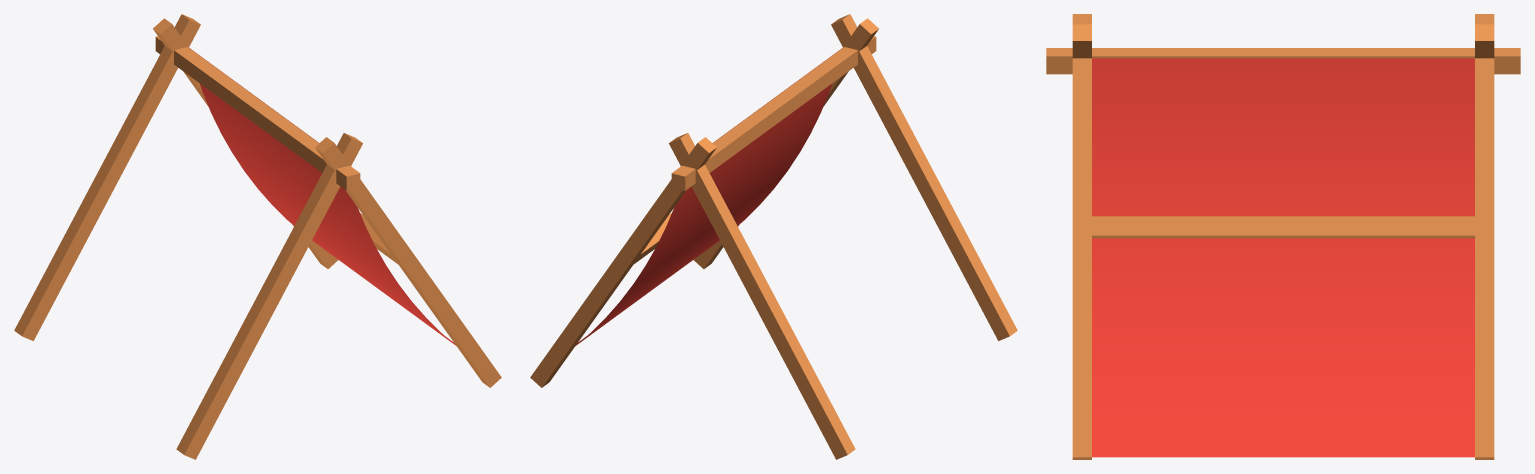
The model's file is tent-half.glb.
3 renders of one model, left to right at view 1: azimuth 30°, elevation 25°; view 2: azimuth 150°, elevation 25°; view 3: azimuth 270°, elevation 25°, orthographic. The views are drawn at different scales.
Visible parts, largest first — view 1: tentHalf; view 2: tentHalf; view 3: tentHalf.
Boxes of the visible parts, x1,y1,x2,y2 form: tentHalf: [14, 14, 501, 459]; tentHalf: [530, 14, 1017, 459]; tentHalf: [1046, 14, 1520, 459].
Size of the model in its own units: 0.5392 by 0.4598 by 0.5623.
